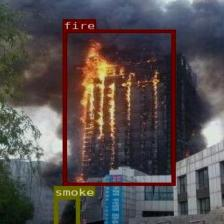fire: (62, 29, 174, 185)
smoke: (53, 195, 78, 224)
